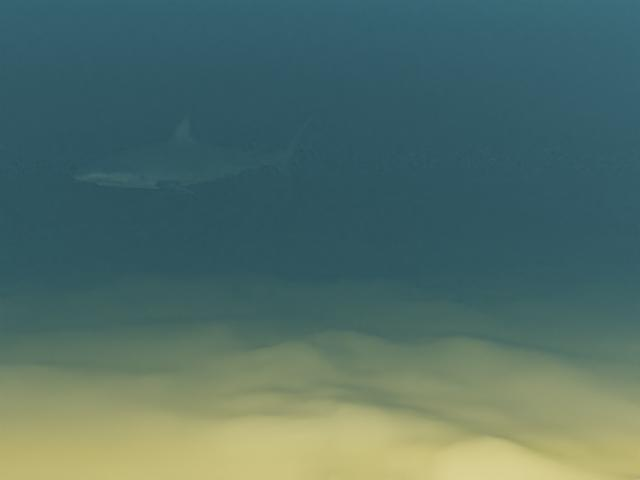Carribean Shark.001: (72, 113, 316, 197)
